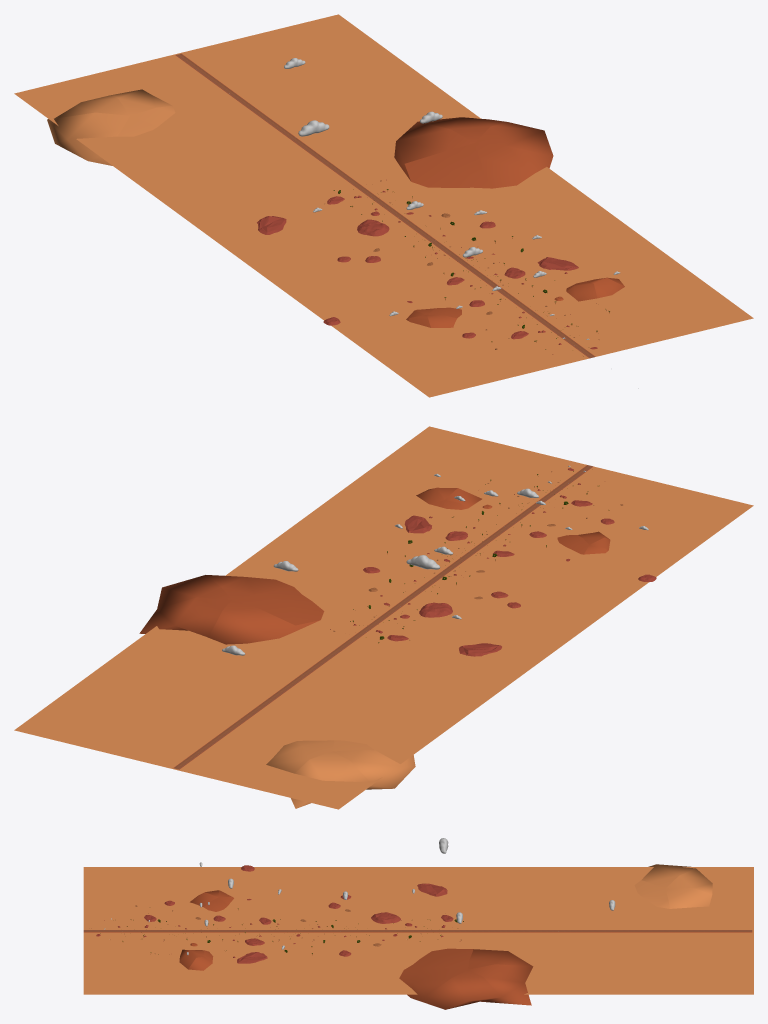
The picture shows the model from 3 angles, top to bottom: view 1: azimuth 30°, elevation 25°; view 2: azimuth 150°, elevation 25°; view 3: azimuth 270°, elevation 25°; orthographic projection. The views are drawn at different scales.
Visible parts, largest first — view 1: Unsealed.001; view 2: Unsealed.001; view 3: Unsealed.001.
Part boxes in pixels (bbox=[...]): Unsealed.001: bbox=[14, 14, 753, 397]; Unsealed.001: bbox=[14, 426, 753, 809]; Unsealed.001: bbox=[83, 838, 753, 1009].
Bounding box in the file's own units: 840 × 276 × 1848.
2 materials, 1 textured.
